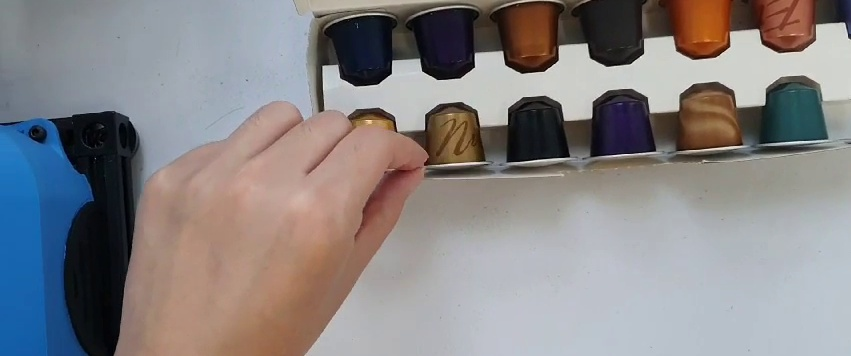capsule_9: (414, 102, 491, 171)
